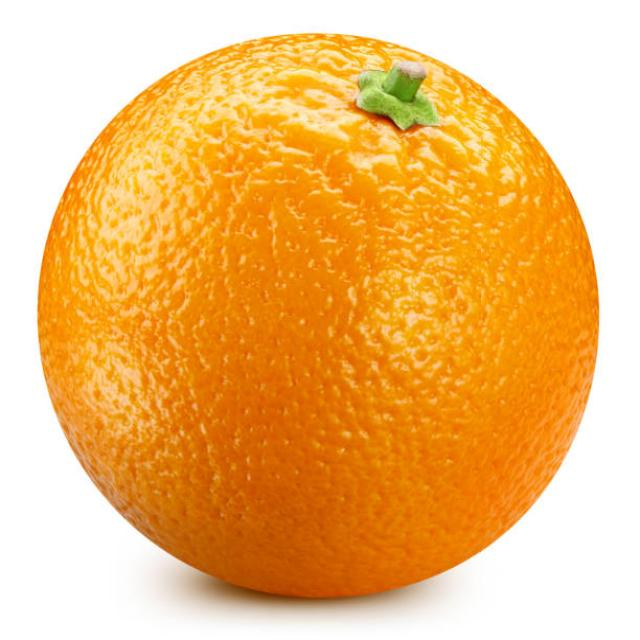Ripe: (33, 21, 601, 602)
